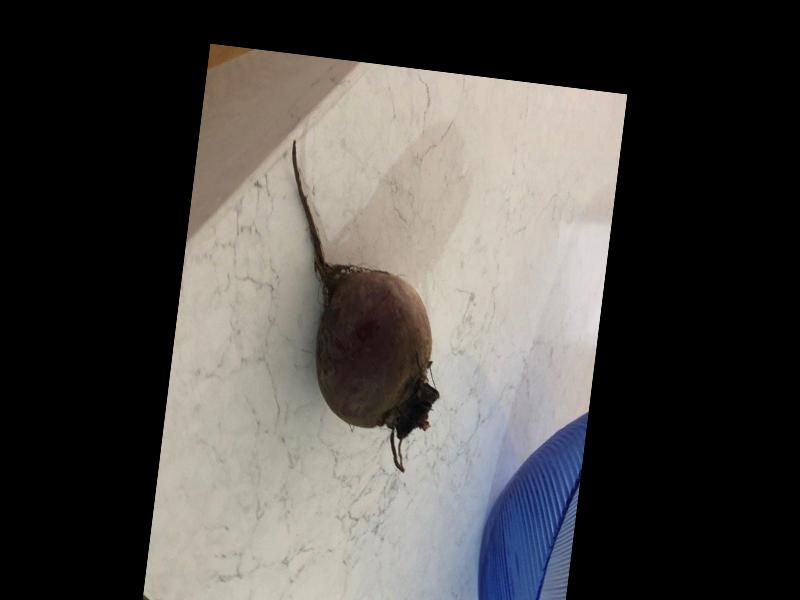Beet: (254, 141, 466, 473)
